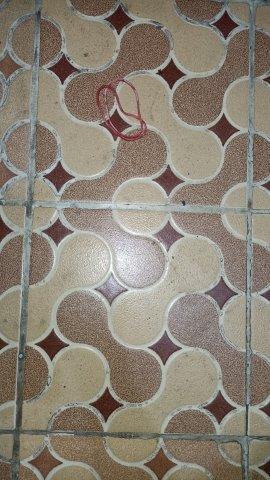karet: (96, 78, 148, 141)
